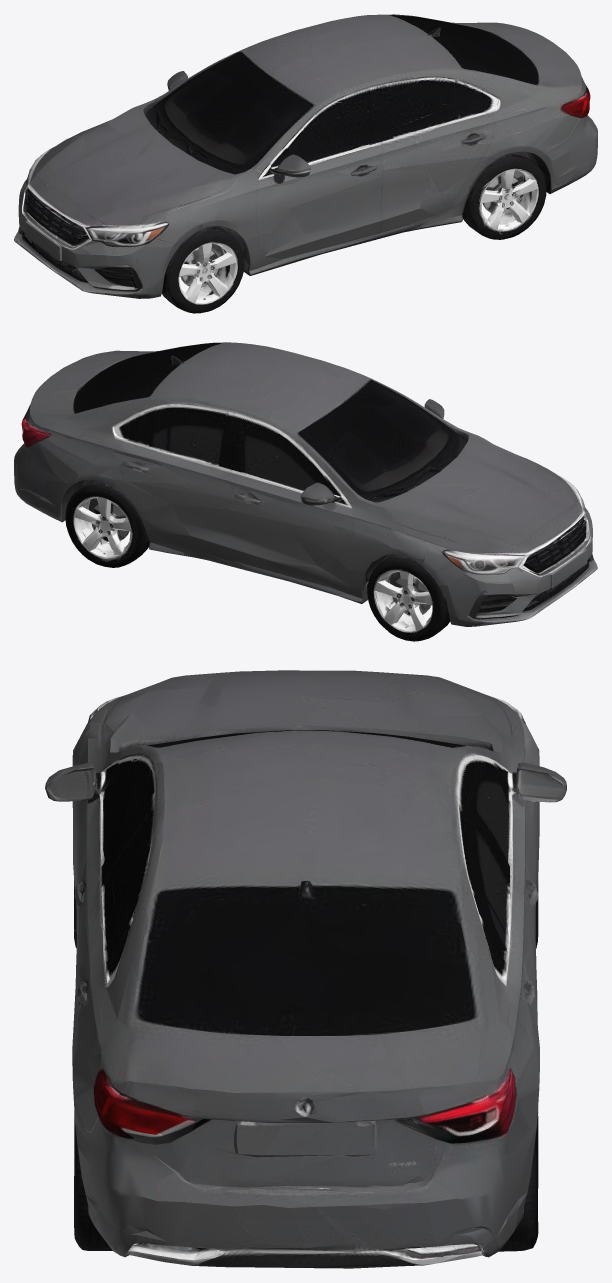
The model's file is sedan.glb.
The picture shows the model from 3 angles, top to bottom: view 1: azimuth 30°, elevation 25°; view 2: azimuth 150°, elevation 25°; view 3: azimuth 270°, elevation 25°; orthographic projection. The views are drawn at different scales.
Parts seen in each view (by area): view 1: Mesh_0; view 2: Mesh_0; view 3: Mesh_0.
Boxes of the visible parts, left/top/right/bottom form: Mesh_0: left=14, top=14, right=597, bottom=313; Mesh_0: left=14, top=342, right=597, bottom=641; Mesh_0: left=45, top=670, right=566, bottom=1268.
Bounding box in the file's own units: 1.9 × 0.614 × 0.8187.
1 material, 1 textured.
